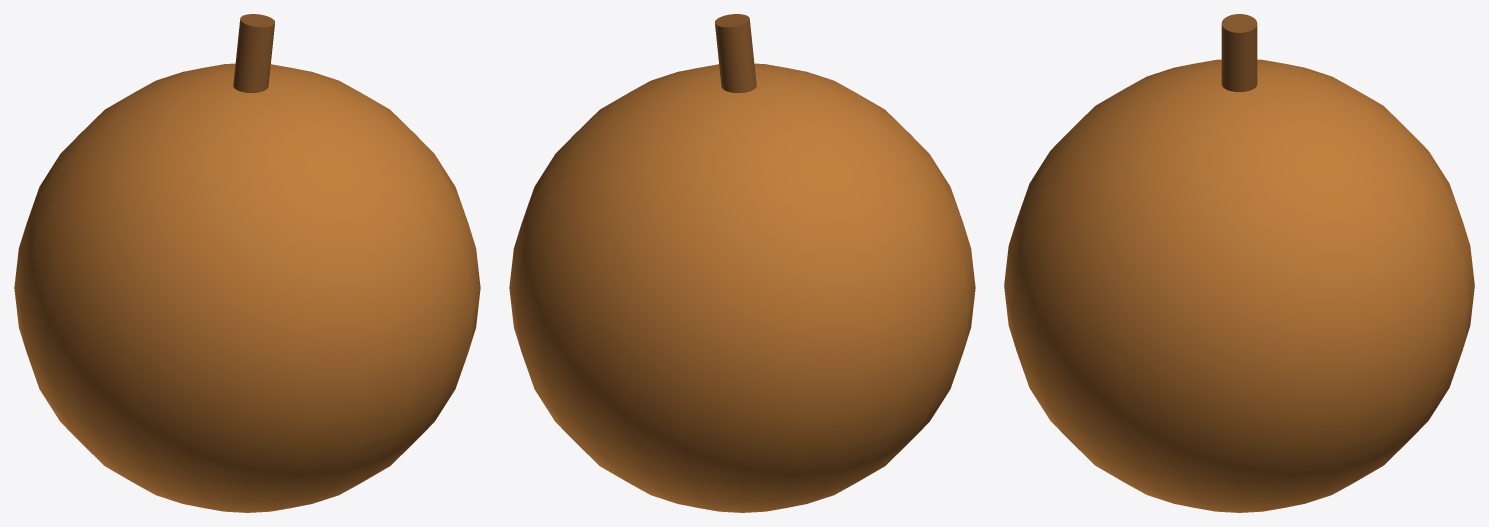
The model's file is wp-oignon-jaune.glb.
3 renders of one model, left to right at view 1: azimuth 30°, elevation 25°; view 2: azimuth 150°, elevation 25°; view 3: azimuth 270°, elevation 25°, orthographic.
Parts seen in each view (by area): view 1: wp-oignon-jaune; view 2: wp-oignon-jaune; view 3: wp-oignon-jaune.
Boxes of the visible parts, box(x1,y1,x2,y2) form: wp-oignon-jaune: box(14, 14, 480, 512); wp-oignon-jaune: box(509, 14, 975, 512); wp-oignon-jaune: box(1004, 14, 1474, 512).
Bounding box in the file's own units: 0.09 × 0.1 × 0.09.
